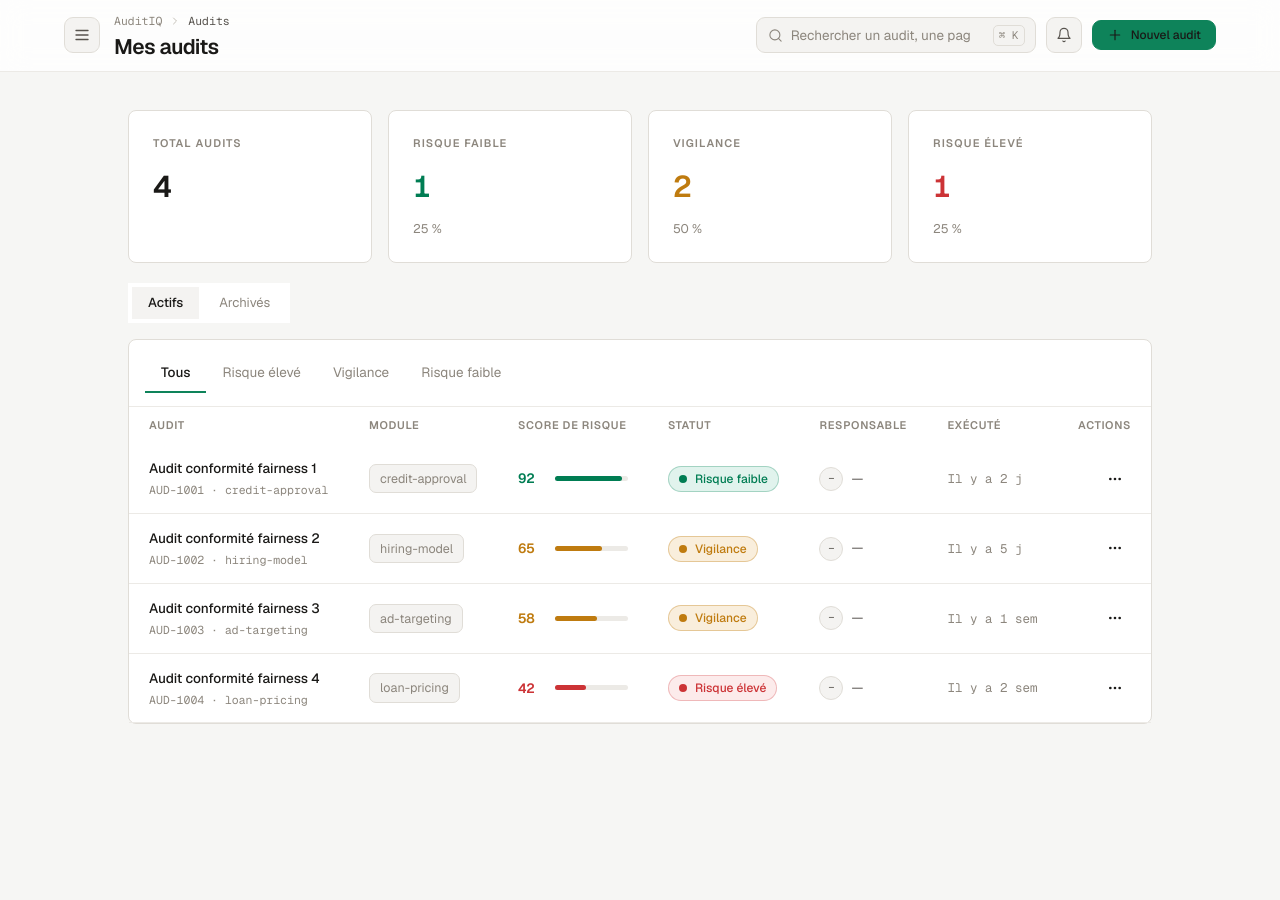
Test: AuditsListPage - R4 Refonte › hides Supprimer for a viewer (role guard)
Click the button named "Actions" in the row of "Audit conformité fairness 1".
click(1115, 479)  # box top-left (1099, 465), bottom-right (1131, 493)
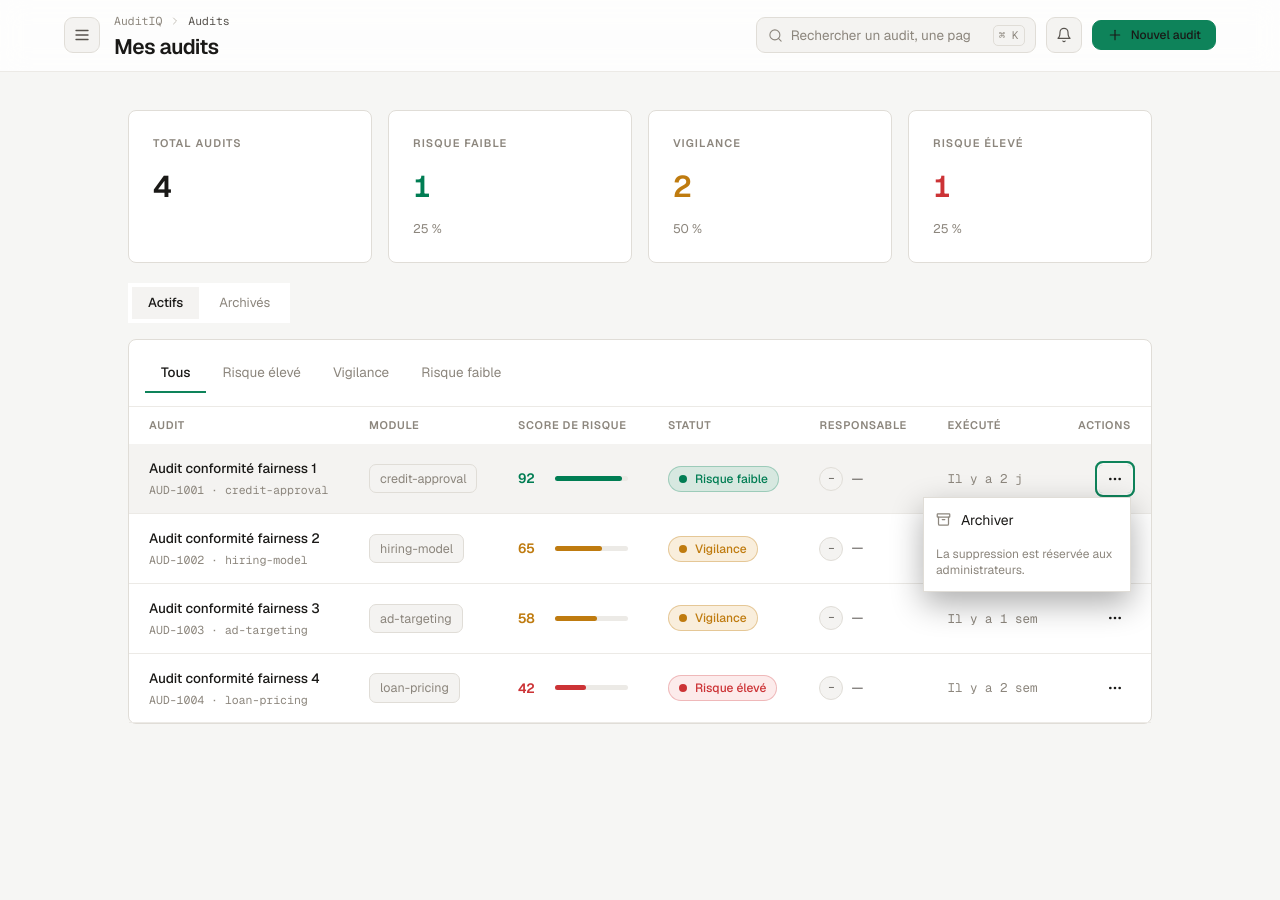
Check: the text "La suppression est réservée aux administrateurs." is shown, box top-left (924, 538), bottom-right (1130, 587)
